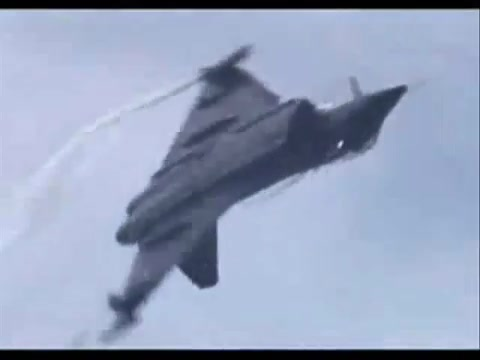aeroplane: (105, 48, 411, 341)
